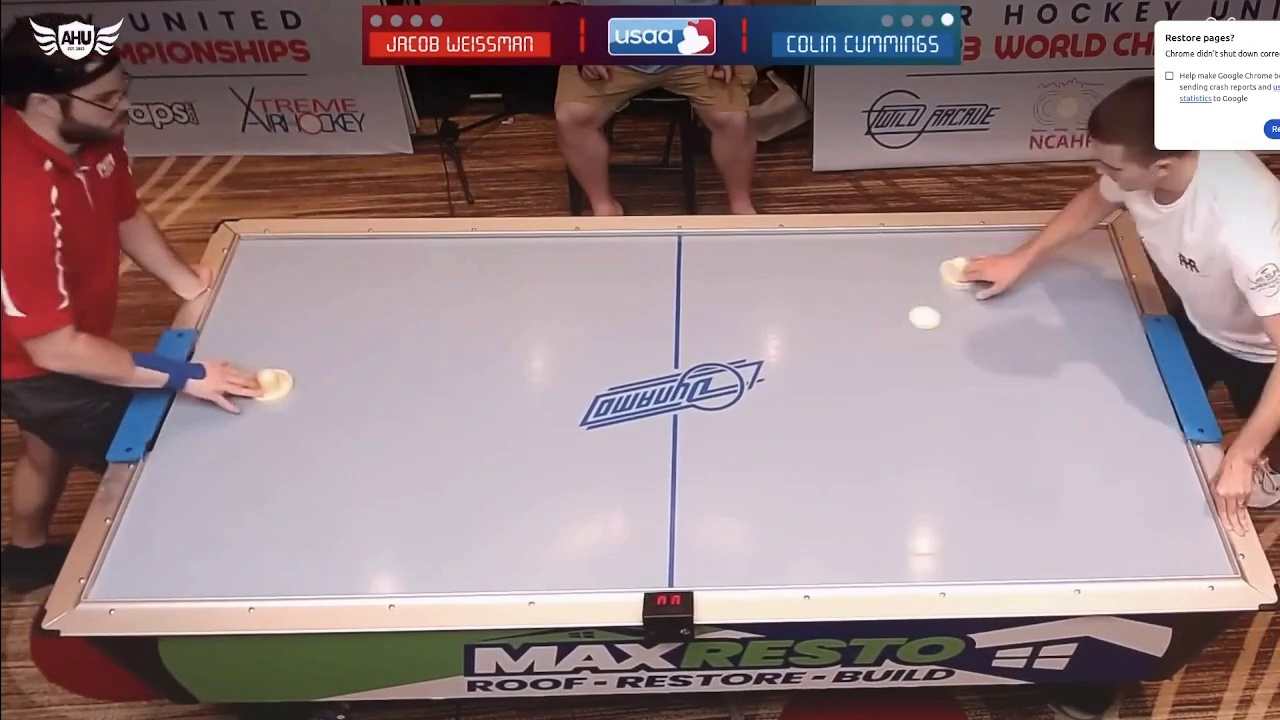player: (247, 367, 295, 401), (937, 256, 978, 288)
puck: (909, 304, 944, 333)
table: (70, 185, 1233, 613)
